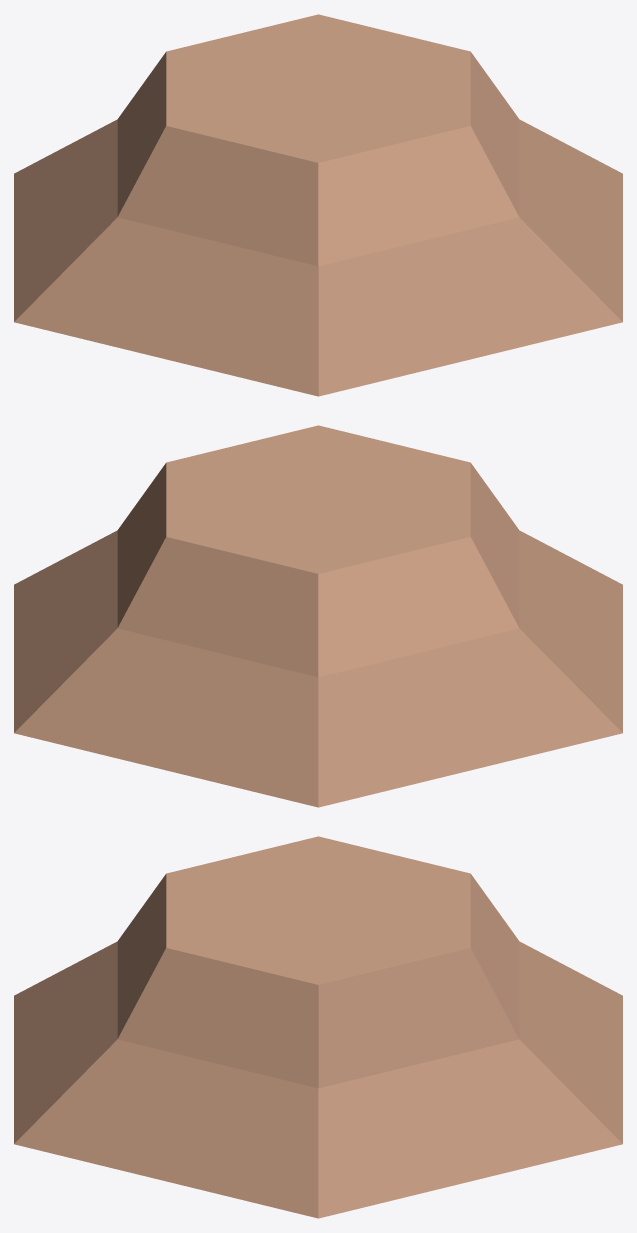
Rendered from crops_dirtSingle.glb.
3 views of the same model, one above another, from view 1: azimuth 30°, elevation 25°; view 2: azimuth 150°, elevation 25°; view 3: azimuth 270°, elevation 25° (orthographic).
Parts seen in each view (by area): view 1: crops_dirtSingle; view 2: crops_dirtSingle; view 3: crops_dirtSingle.
Part boxes in pixels (<box>): crops_dirtSingle: <box>14,14,622,396</box>; crops_dirtSingle: <box>14,425,622,807</box>; crops_dirtSingle: <box>14,836,622,1218</box>.
Bounding box in the file's own units: 0.4 × 0.1 × 0.3464.
